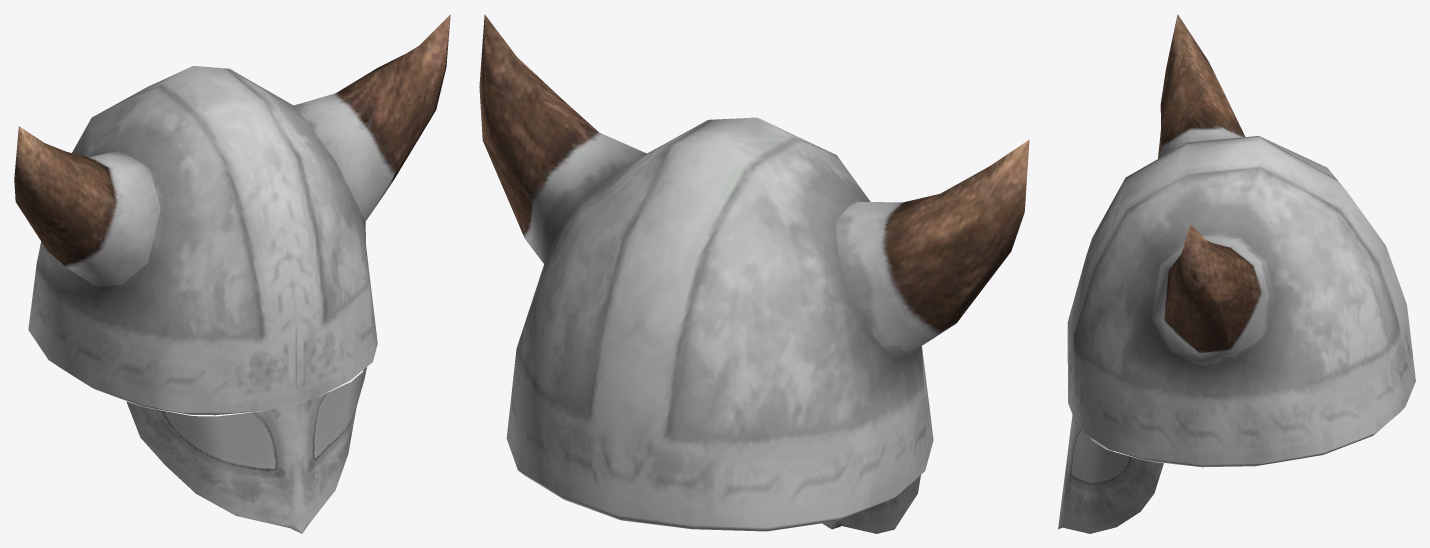
The model's file is helmet-heavyinfantry.glb.
3 views of the same model, side by side, from view 1: azimuth 30°, elevation 25°; view 2: azimuth 150°, elevation 25°; view 3: azimuth 270°, elevation 25° (orthographic). The views are drawn at different scales.
Bounding box in the file's own units: 0.4207 × 0.3828 × 0.3033.
1 material, 1 textured.
